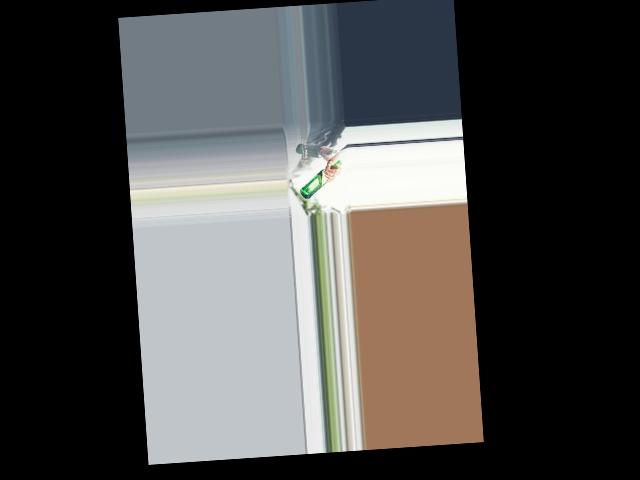beer: (297, 159, 343, 199)
